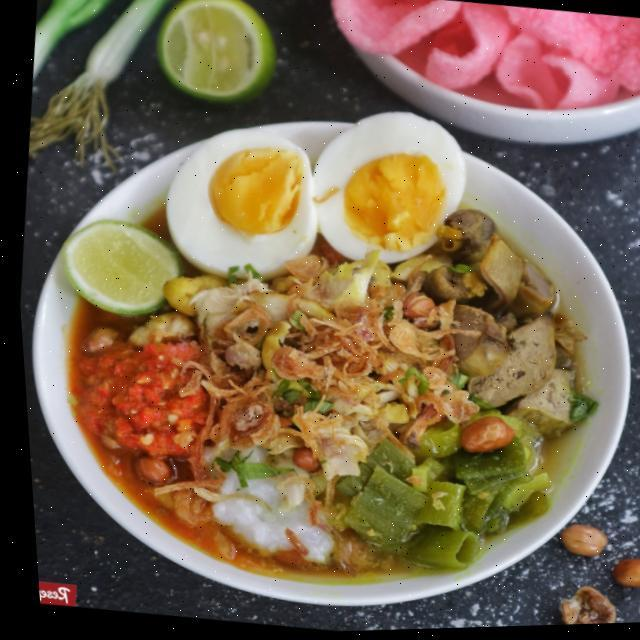bubur ayam: (20, 120, 637, 623)
mangkuk: (6, 70, 640, 640), (315, 0, 640, 167)
sambal: (68, 318, 220, 469)
telur rebus: (296, 96, 480, 278), (152, 116, 326, 290)
